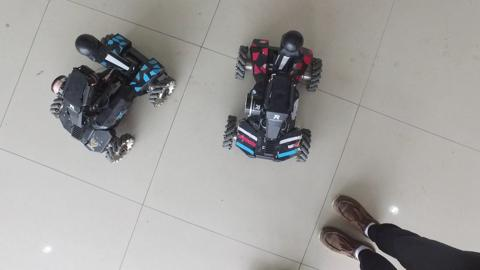chariot: (42, 21, 175, 171), (223, 25, 324, 178)
